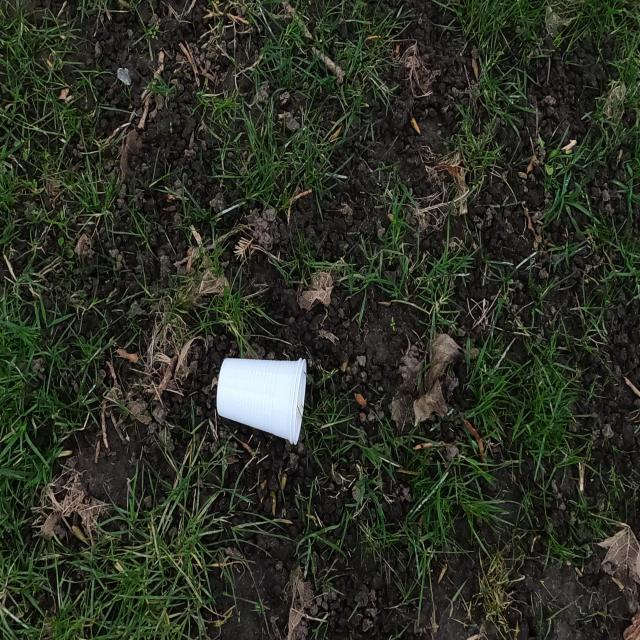Cup: (214, 351, 308, 448)
